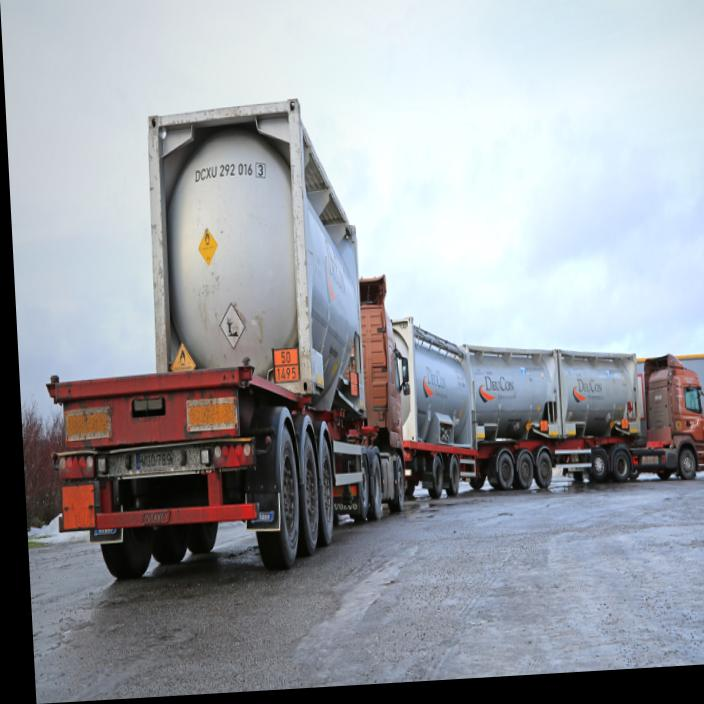defibrillator: (199, 229, 217, 264), (171, 344, 194, 369)
